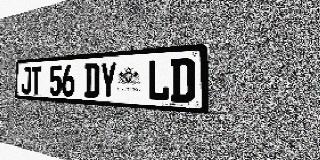5: (50, 65, 62, 96)
6: (62, 64, 75, 97)
D: (170, 57, 195, 103), (84, 63, 100, 98)
J: (21, 67, 31, 94)
L: (147, 59, 170, 102)
T: (31, 66, 41, 95)
Y: (100, 62, 117, 99)
